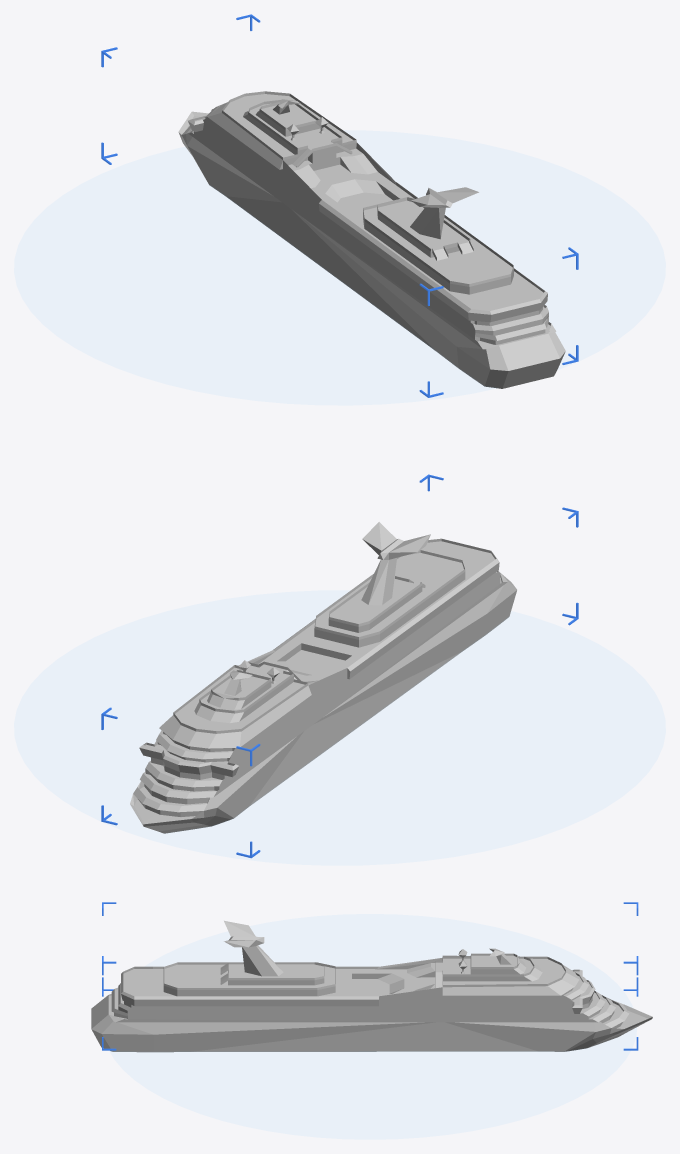
Rendered from CruiseShip.glb.
3 renders of one model, top to bottom at view 1: azimuth 30°, elevation 25°; view 2: azimuth 150°, elevation 25°; view 3: azimuth 270°, elevation 25°, orthographic. The views are drawn at different scales.
Parts seen in each view (by area): view 1: AIS_CruiseShip-A002, BoundingBox; view 2: AIS_CruiseShip-A002, BoundingBox; view 3: AIS_CruiseShip-A002, BoundingBox.
Boxes of the visible parts, x1,y1,x2,y2 form: AIS_CruiseShip-A002: (178, 91, 565, 388); BoundingBox: (101, 14, 578, 397); AIS_CruiseShip-A002: (130, 522, 516, 833); BoundingBox: (101, 474, 578, 858); AIS_CruiseShip-A002: (91, 920, 652, 1052); BoundingBox: (102, 902, 638, 1050).
Bounding box in the file's own units: 250 × 54.78 × 305.
